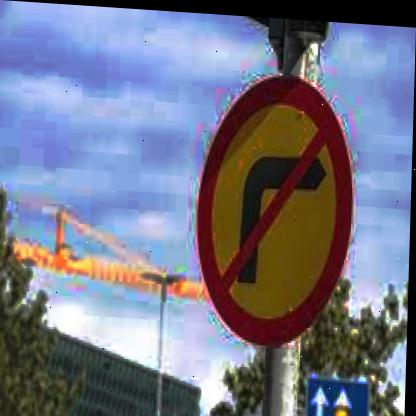No right turn: (195, 69, 357, 349)
